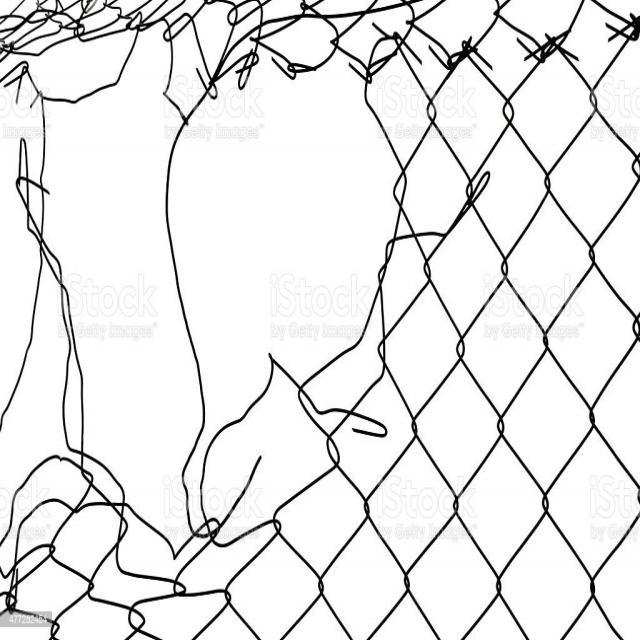fence line: (12, 69, 398, 528)
